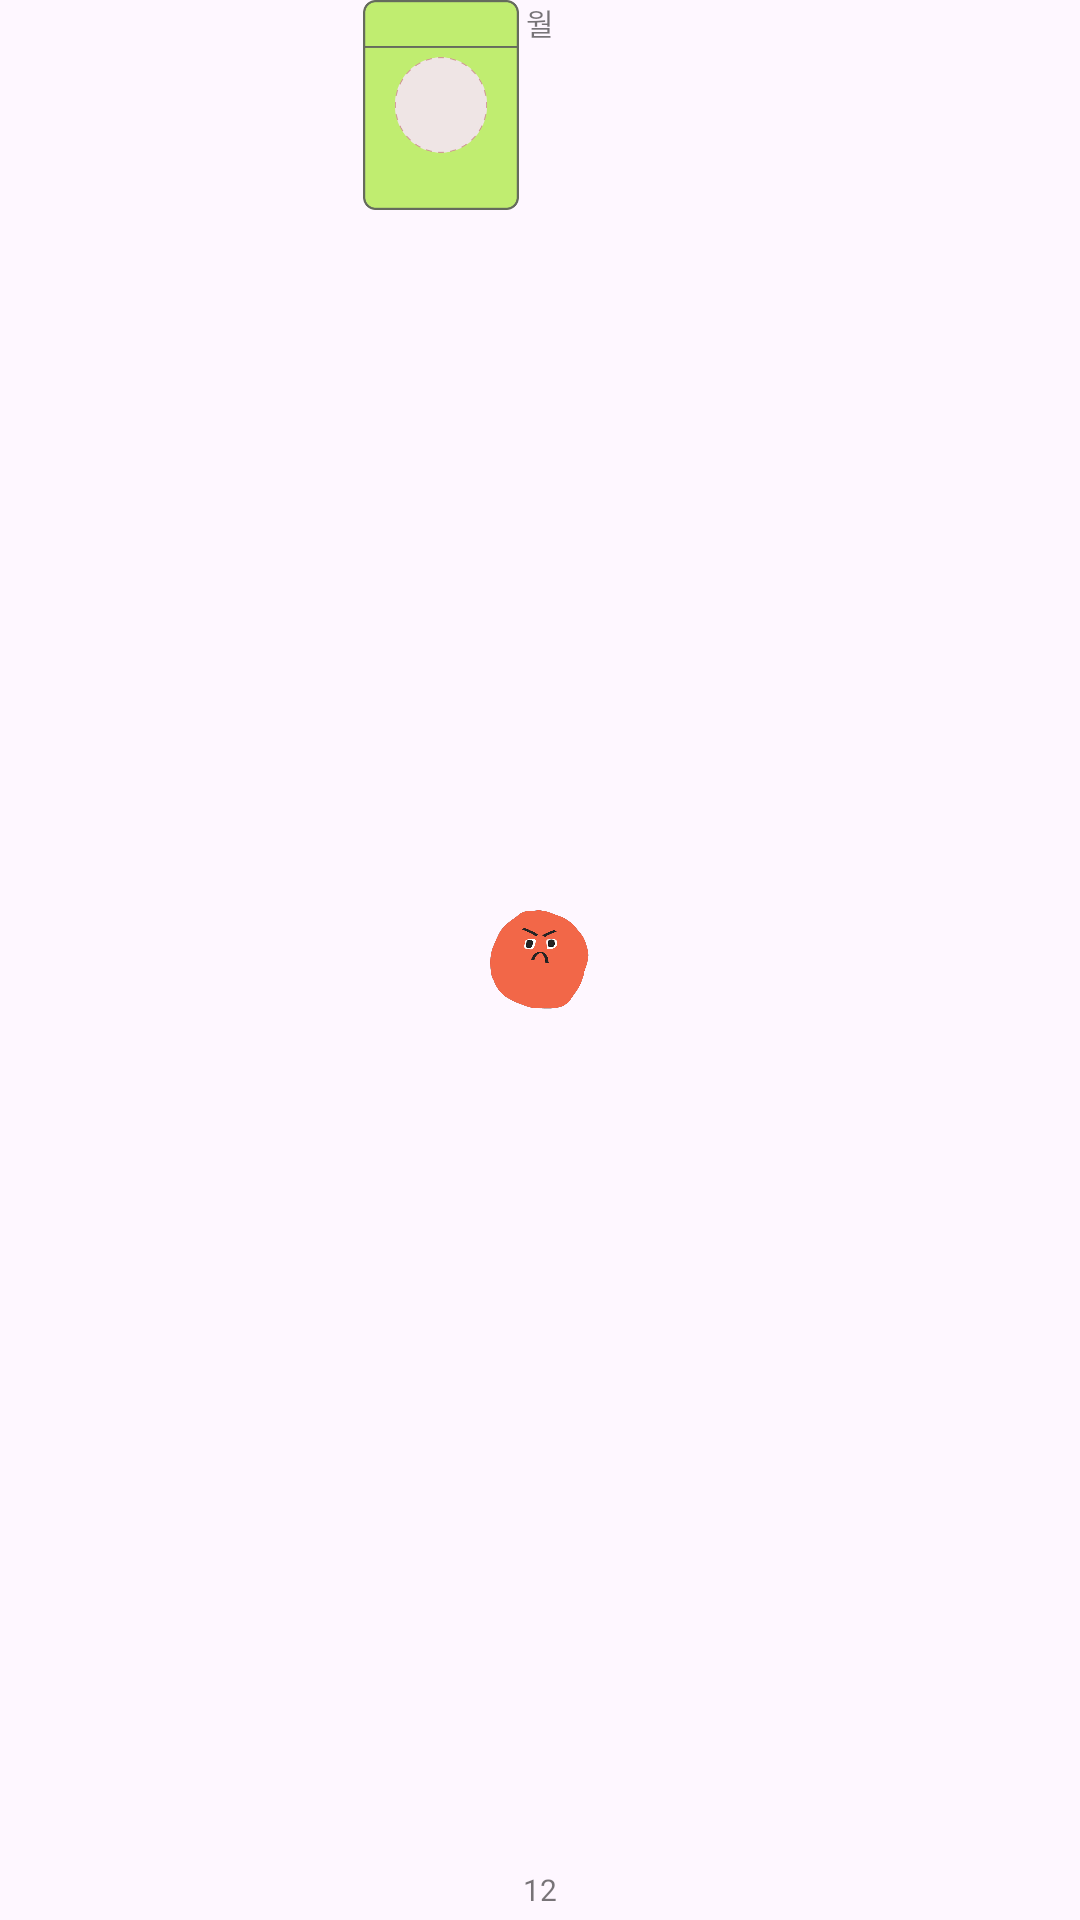

Icons on this 1080x1920 Android screen, each with its box as (x1, y1, x2, y2):
angry: (490, 910, 589, 1009)
